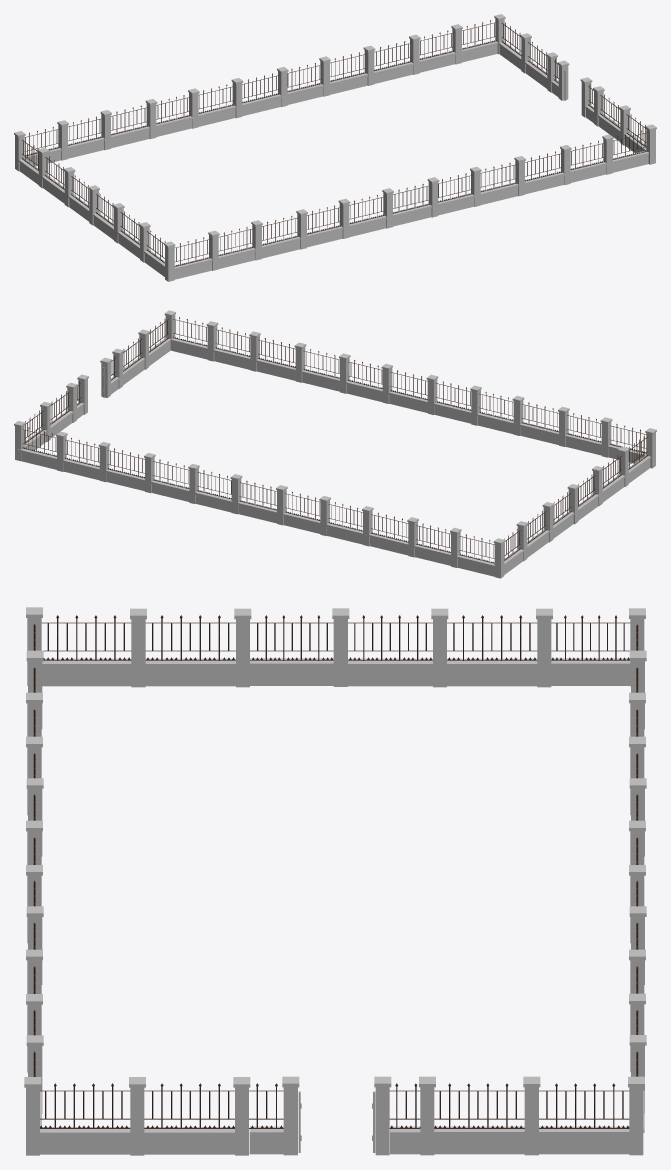
File: fence1.fbx
3 renders of one model, top to bottom at view 1: azimuth 30°, elevation 25°; view 2: azimuth 150°, elevation 25°; view 3: azimuth 270°, elevation 25°, orthographic. The views are drawn at different scales.
Visible parts, largest first — view 1: fence; view 2: fence; view 3: fence.
Boxes of the visible parts, x1=… form: fence: x1=14, y1=14, x2=656, y2=281; fence: x1=14, y1=310, x2=656, y2=578; fence: x1=24, y1=607, x2=646, y2=1155.
Bounding box in the file's own units: 3098 × 219 × 1708.
